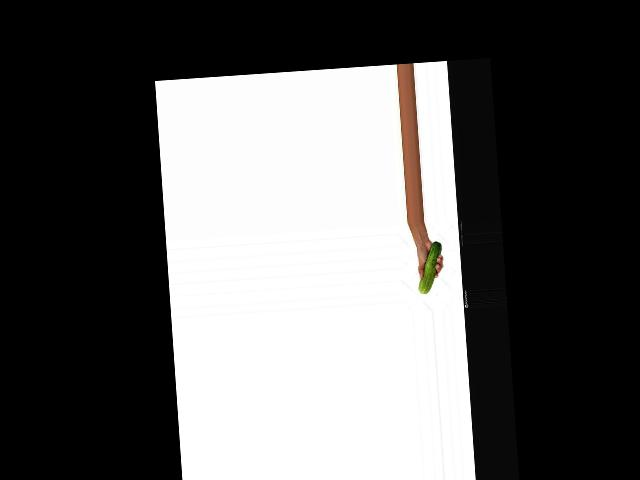cucumber: (415, 240, 444, 293)
